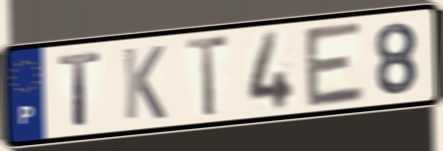4: (246, 28, 297, 113)
8: (373, 20, 422, 97)
E: (301, 19, 368, 111)
K: (120, 43, 169, 123)
T: (183, 33, 231, 120), (56, 49, 104, 129)
